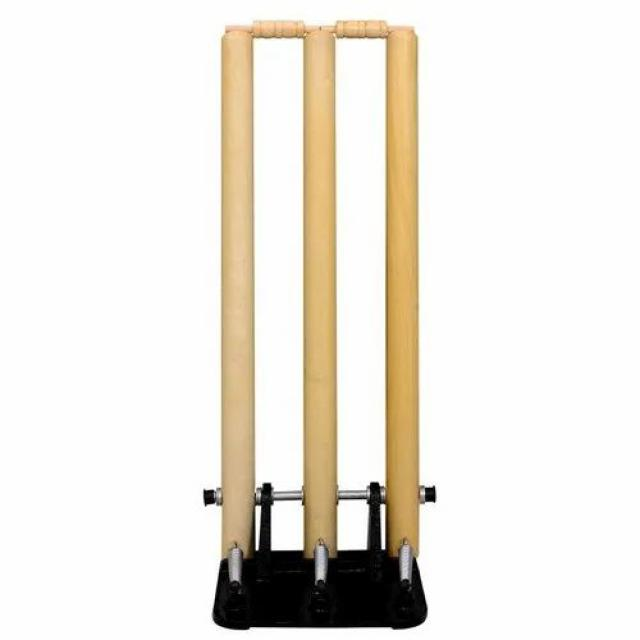stump: (222, 19, 420, 553)
